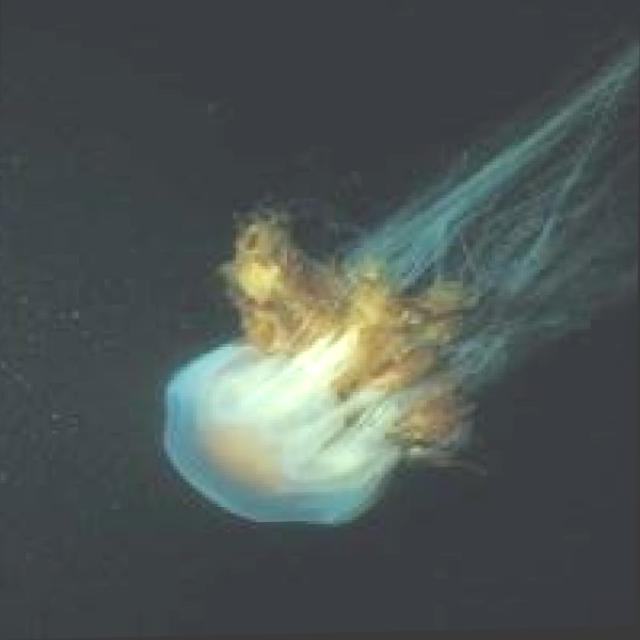Jellyfish: (157, 0, 640, 529)
